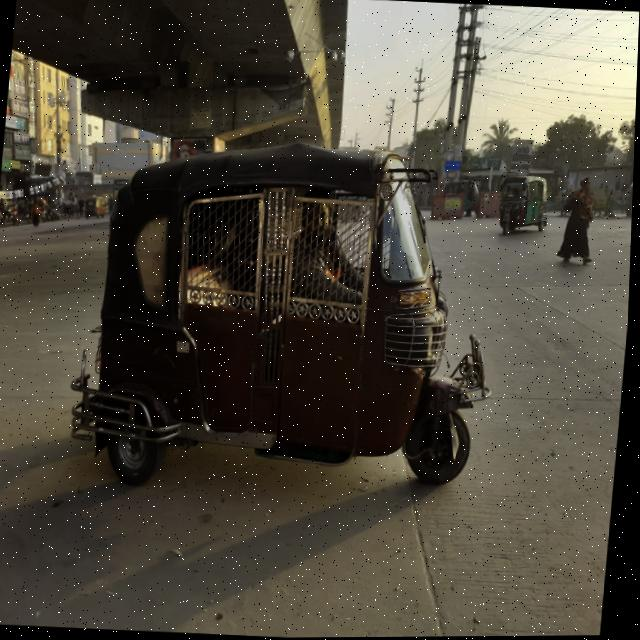cng: (89, 120, 514, 572)
